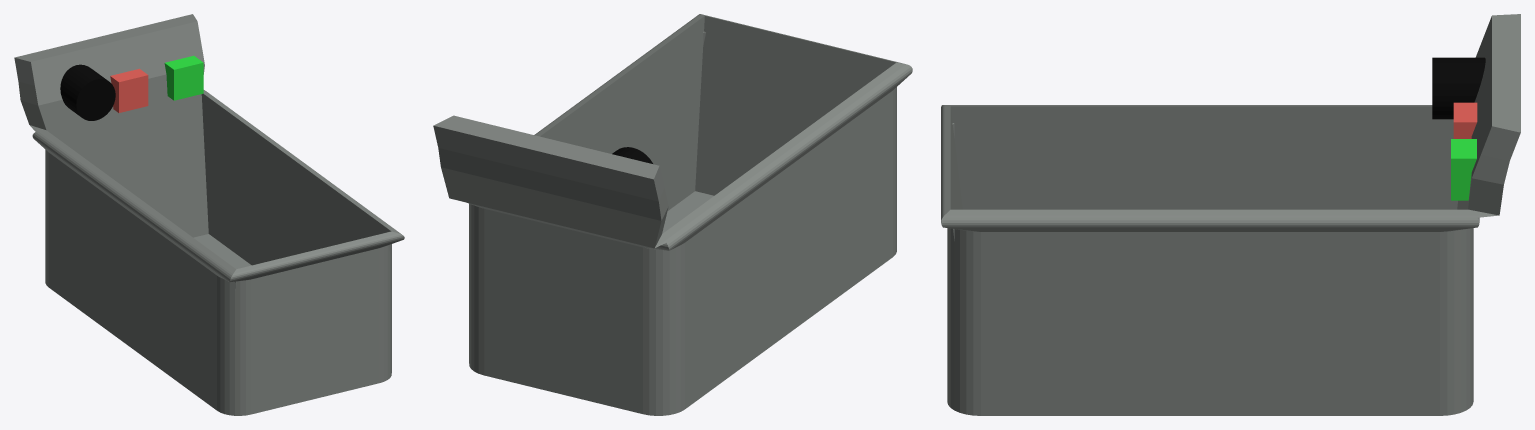
The model's file is Fritose.fbx.
3 renders of one model, left to right at view 1: azimuth 30°, elevation 25°; view 2: azimuth 150°, elevation 25°; view 3: azimuth 270°, elevation 25°, orthographic. The views are drawn at different scales.
Visible parts, largest first — view 1: Cube; view 2: Cube; view 3: Cube.
Boxes of the visible parts, x1,y1,x2,y2 form: Cube: (14,14,404,415); Cube: (433,14,912,415); Cube: (941,14,1520,415).
Bounding box in the file's own units: 277 × 313 × 571.
